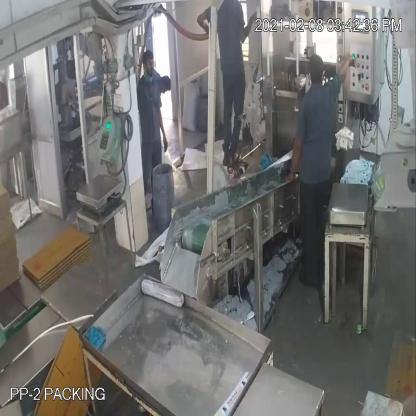no_glove: (286, 130, 304, 195), (235, 10, 261, 44), (338, 49, 358, 89)
